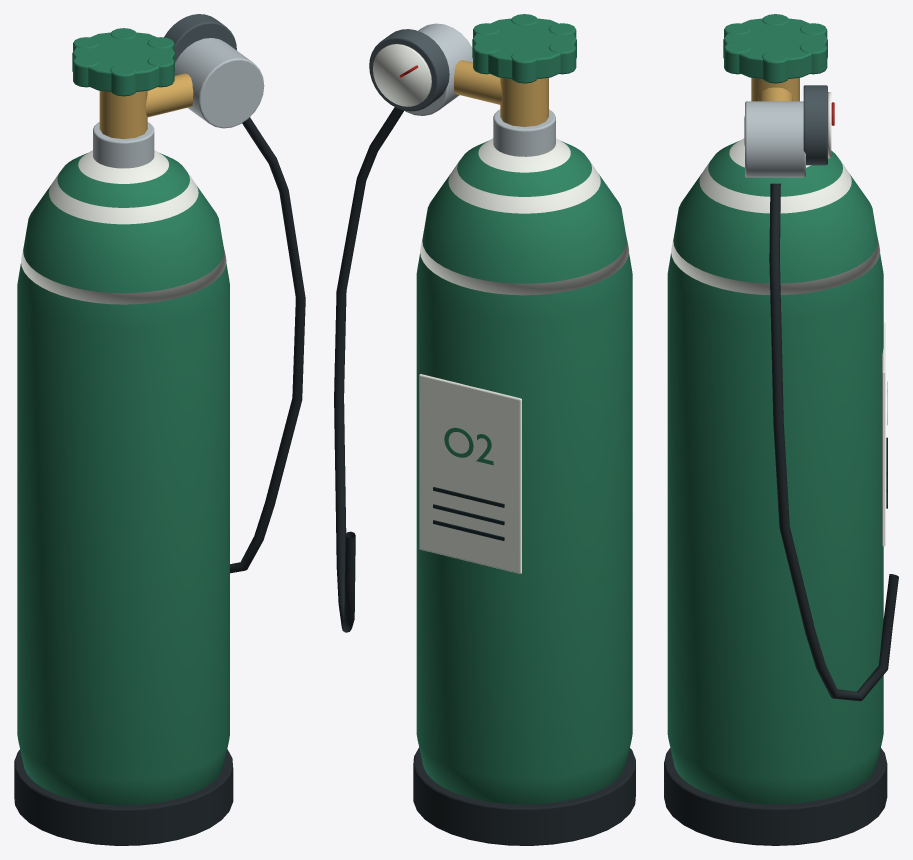
Rendered from oxygen_cylinder.glb.
The picture shows the model from 3 angles, left to right: view 1: azimuth 30°, elevation 25°; view 2: azimuth 150°, elevation 25°; view 3: azimuth 270°, elevation 25°; orthographic projection.
Visible parts, largest first — view 1: oxygen_cylinder_render_mesh; view 2: oxygen_cylinder_render_mesh; view 3: oxygen_cylinder_render_mesh.
Part boxes in pixels (left/top/right/bottom): oxygen_cylinder_render_mesh: left=14, top=14, right=305, bottom=845; oxygen_cylinder_render_mesh: left=334, top=14, right=635, bottom=845; oxygen_cylinder_render_mesh: left=664, top=14, right=898, bottom=845.
Bounding box in the file's own units: 0.1873 × 0.482 × 0.1347.
